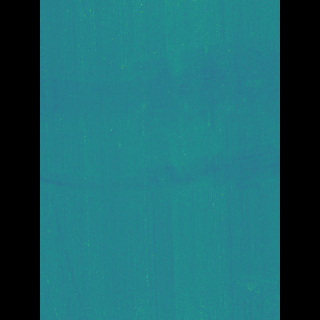Loch: (70, 37, 248, 199)
